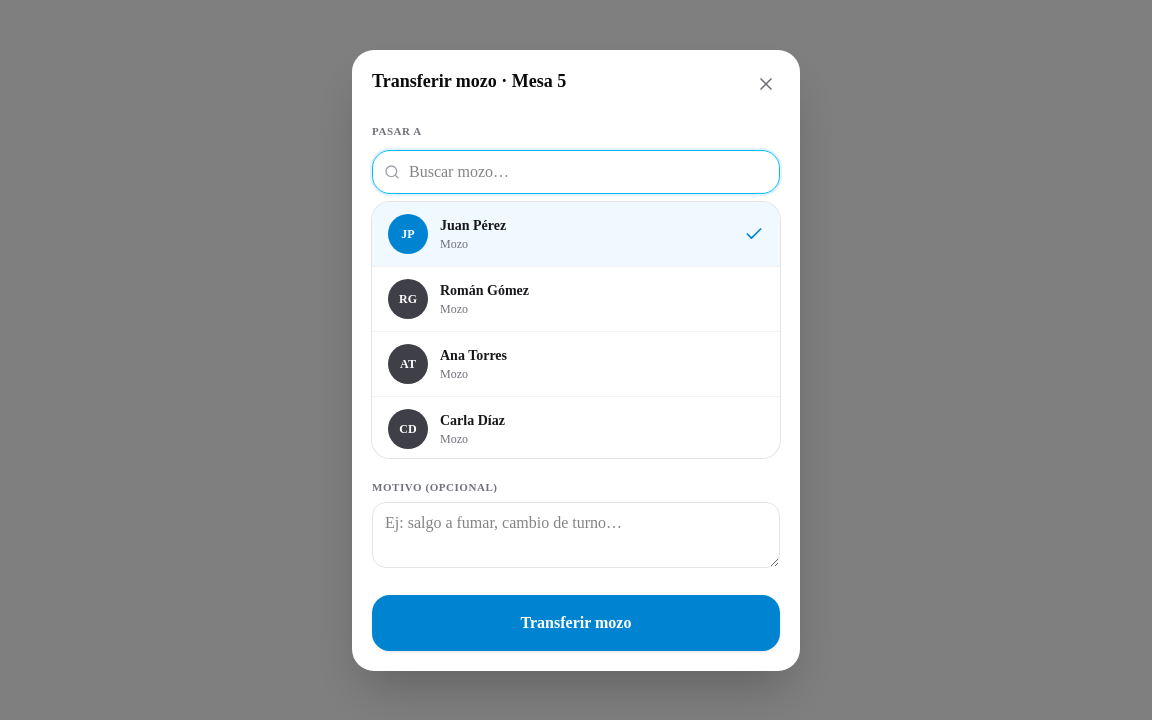
Scenario: elegir mozo · modo transferir (spec 079) › sin resultados avisa en vez de dejar la lista vacía
Type "zzz" into the field labelled "Buscar mozo…" at (576, 172), box top-left (372, 150), bottom-right (780, 194)
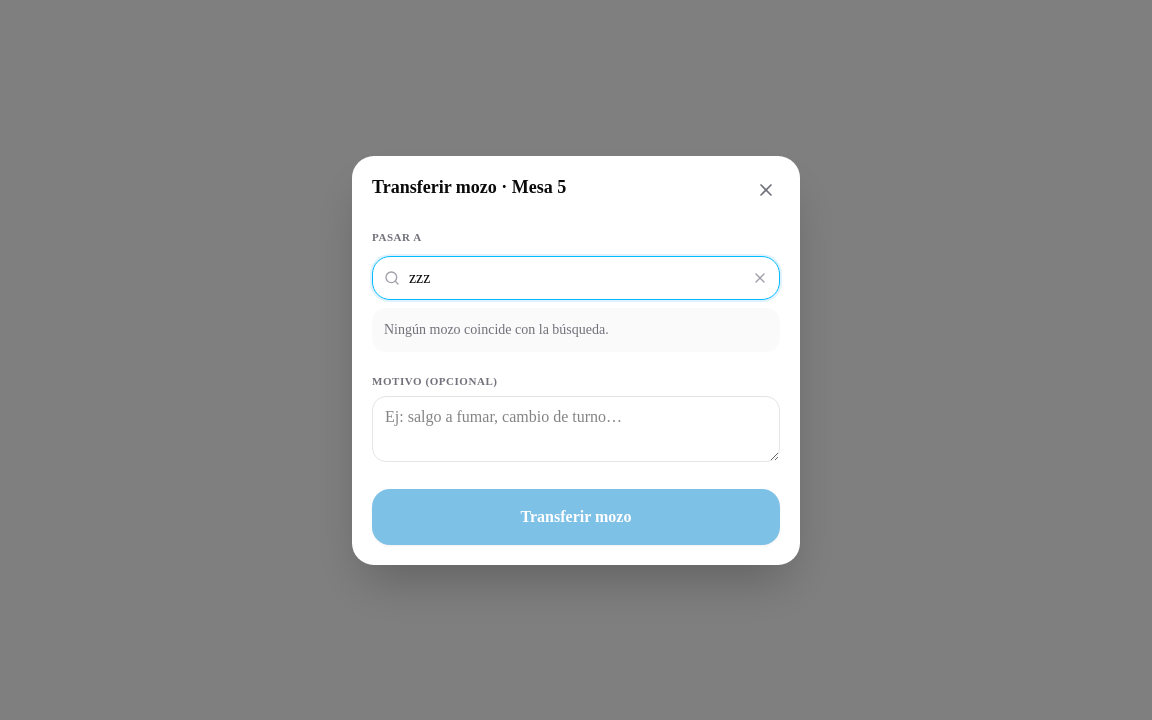
Result: the text "Ningún mozo coincide con la búsqueda." is shown at top-left (372, 308), bottom-right (780, 352)
